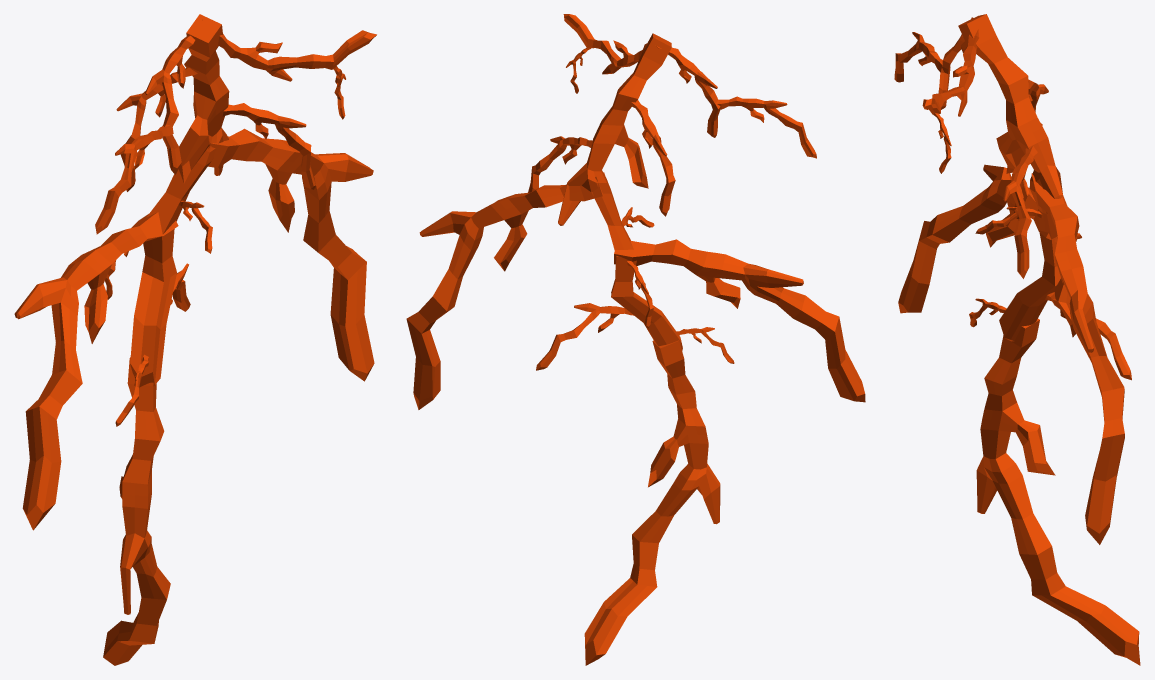
File: Raices.fbx
3 renders of one model, left to right at view 1: azimuth 30°, elevation 25°; view 2: azimuth 150°, elevation 25°; view 3: azimuth 270°, elevation 25°, orthographic. The views are drawn at different scales.
Parts seen in each view (by area): view 1: Raices; view 2: Raices; view 3: Raices.
Boxes of the visible parts, x1,y1,x2,y2 form: Raices: [14, 14, 376, 665]; Raices: [406, 14, 865, 665]; Raices: [894, 14, 1140, 665].
Size of the model in its own units: 643 by 972 by 332.
